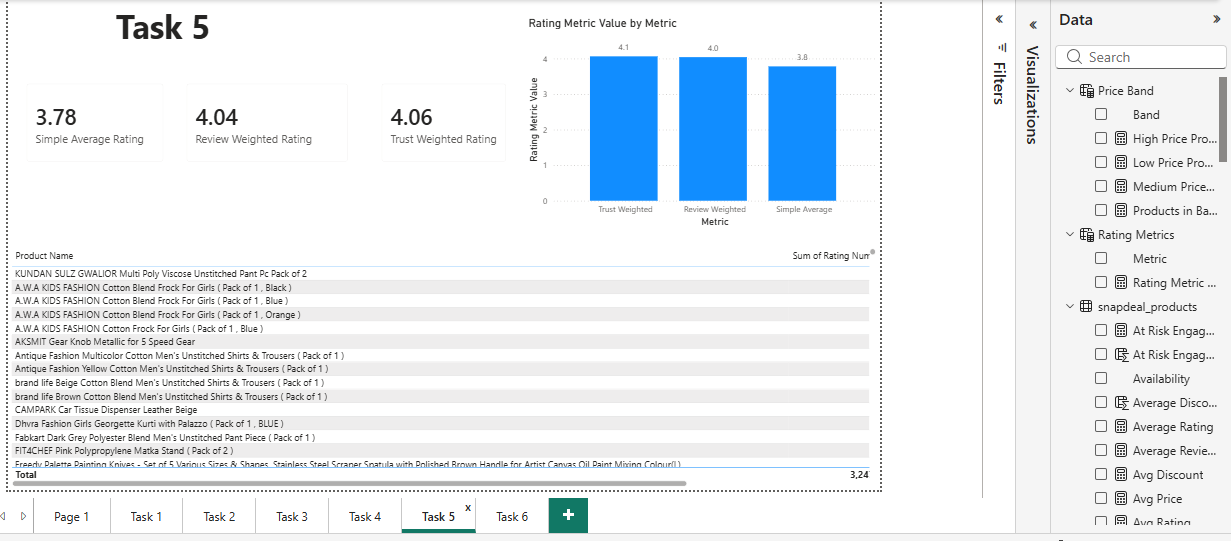

The page's visual inventory and layout, read from the dashboard file:
{"tool":"powerbi","page":{"name":"Task 5","canvas":[1280,720],"ordinal":5},"visuals":[{"type":"cardVisual","fields":{"Data":["snapdeal_products.Simple Average Rating"]},"box":[10.3,105.8,235.1,149.9],"z":0},{"type":"cardVisual","fields":{"Data":["snapdeal_products.Review Weighted Rating"]},"box":[245.4,105.8,271.8,149.9],"z":1000},{"type":"cardVisual","fields":{"Data":["snapdeal_products.Trust Weighted Rating"]},"box":[531.9,105.8,217.5,149.9],"z":2000},{"type":"tableEx","fields":{"Values":["snapdeal_products.Product Name","Sum(snapdeal_products.Rating Numeric)","Sum(snapdeal_products.Reviews Count (listing))","Sum(snapdeal_products.Trust Score)"]},"box":[0,360,1279.8,360],"z":3000},{"type":"clusteredColumnChart","fields":{"Category":["Rating Metrics.Metric"],"Y":["Rating Metrics.Rating Metric Value"]},"box":[759.7,23.5,520.2,314.4],"z":3001},{"type":"textbox","box":[99.9,0,255.7,82.3],"z":3002}]}

Visuals, with their boxes on the page's 1280x720 design canvas (x1, y1, x2, y2). These are canvas units, not pixel positions in the 1231x541 screenshot, which may show the page scaled, cropped or inside an application window:
cardVisual - snapdeal_products.Simple Average Rating: bbox=[10, 106, 245, 256]
cardVisual - snapdeal_products.Review Weighted Rating: bbox=[245, 106, 517, 256]
cardVisual - snapdeal_products.Trust Weighted Rating: bbox=[532, 106, 749, 256]
tableEx - snapdeal_products.Product Name x Sum(snapdeal_products.Rating Numeric): bbox=[0, 360, 1280, 720]
clusteredColumnChart - Rating Metrics.Metric x Rating Metrics.Rating Metric Value: bbox=[760, 24, 1280, 338]
textbox: bbox=[100, 0, 356, 82]
